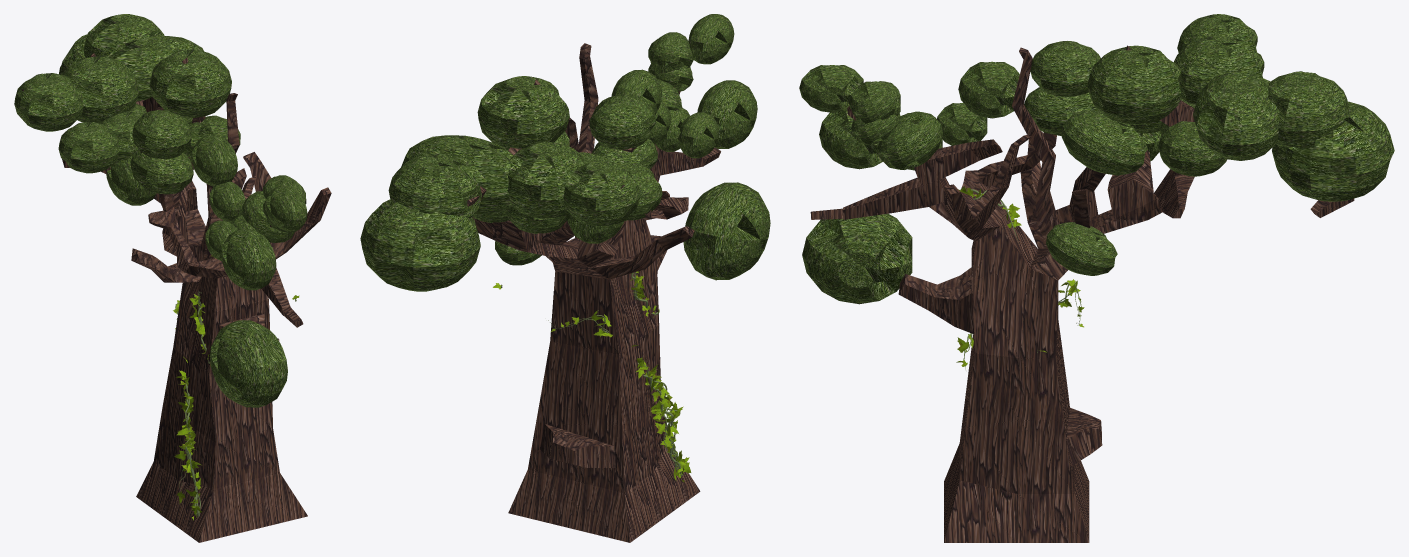
The model's file is Tree6_Fix.fbx.
3 views of the same model, side by side, from view 1: azimuth 30°, elevation 25°; view 2: azimuth 150°, elevation 25°; view 3: azimuth 270°, elevation 25° (orthographic). The views are drawn at different scales.
Visible parts, largest first — view 1: Cube.069, Sphere.070, Sphere.046, Sphere.042, Sphere.041, Sphere.048, Sphere.036, Sphere.060, Sphere.044, Sphere.043, Vines.014, Sphere.061 (+9 smaller); view 2: Cube.069, Sphere.045, Sphere.070, Sphere.046, Sphere.043, Sphere.042, Sphere.041, Sphere.044, Vines.014, Sphere.060, Sphere.048, Sphere.052 (+12 smaller); view 3: Cube.069, Sphere.070, Sphere.045, Sphere.044, Sphere.046, Sphere.043, Sphere.038, Sphere.042, Sphere.060, Sphere.039, Sphere.059, Sphere.056 (+10 smaller).
Boxes of the visible parts, x1,y1,x2,y2 form: Cube.069: (21, 53, 331, 542); Sphere.070: (209, 320, 287, 407); Sphere.046: (149, 49, 231, 118); Sphere.042: (61, 56, 138, 123); Sphere.041: (14, 73, 83, 131); Sphere.048: (221, 228, 276, 290); Sphere.036: (58, 122, 119, 173); Sphere.060: (132, 110, 191, 159); Sphere.044: (106, 36, 204, 101); Sphere.043: (83, 14, 164, 57); Vines.014: (173, 255, 299, 520); Sphere.061: (130, 149, 193, 194); Cube.069: (467, 43, 720, 542); Sphere.045: (360, 199, 480, 291); Sphere.070: (683, 182, 770, 280); Sphere.046: (477, 76, 569, 150); Sphere.043: (388, 154, 482, 217); Sphere.042: (507, 142, 584, 219); Sphere.041: (563, 161, 640, 226); Sphere.044: (401, 135, 513, 214); Vines.014: (493, 271, 691, 482); Sphere.060: (589, 94, 655, 149); Sphere.048: (697, 80, 757, 148); Sphere.052: (688, 14, 734, 64); Cube.069: (810, 45, 1354, 542); Sphere.070: (802, 213, 912, 304); Sphere.045: (1272, 101, 1394, 201); Sphere.044: (1193, 69, 1279, 160); Sphere.046: (1087, 45, 1181, 124); Sphere.043: (1267, 71, 1349, 148); Sphere.038: (1061, 110, 1147, 175); Sphere.042: (1174, 35, 1264, 104); Sphere.060: (1030, 41, 1100, 96); Sphere.039: (1046, 222, 1117, 275); Sphere.059: (958, 61, 1019, 118); Sphere.056: (877, 111, 942, 169).
Bounding box in the file's own units: 309 × 598 × 680.
4 materials, 4 textured.
